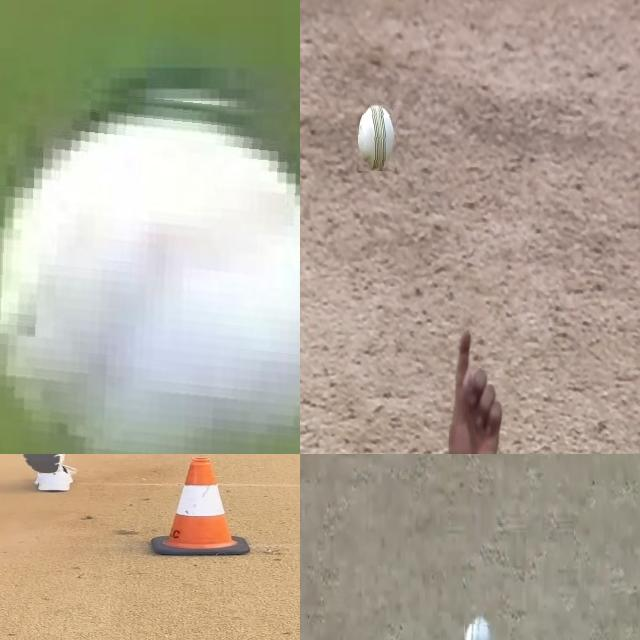Cricket ball: (0, 81, 300, 454), (358, 101, 398, 171), (463, 611, 494, 640)
